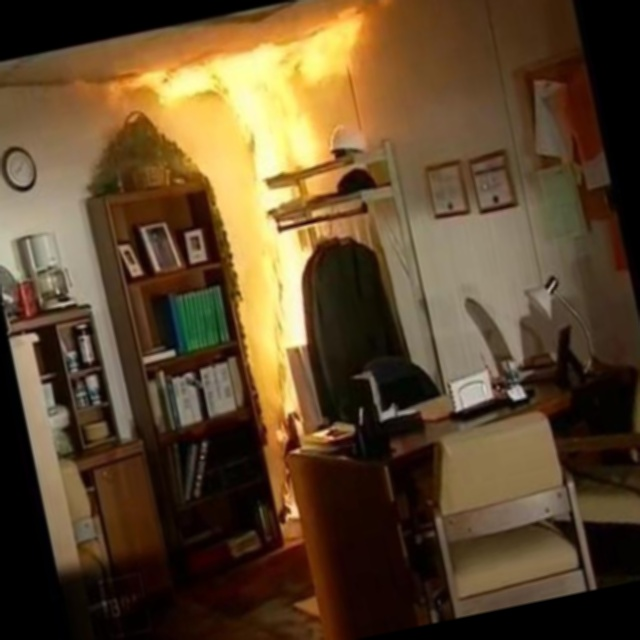fire: (144, 17, 368, 223)
